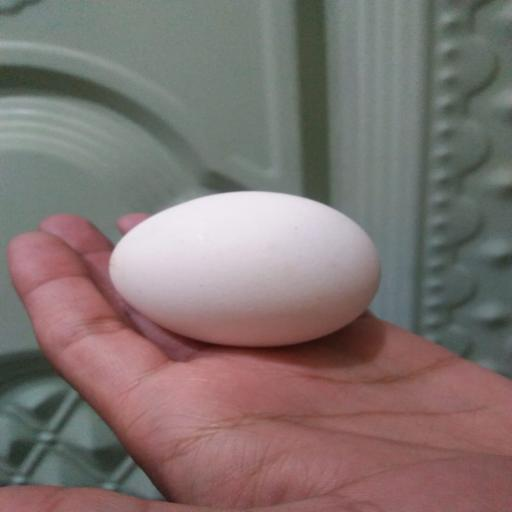telur: (105, 185, 386, 358)
